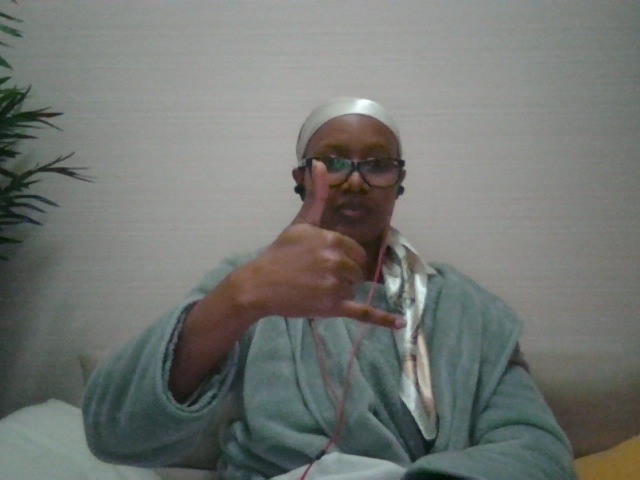callme: (223, 154, 414, 339)
